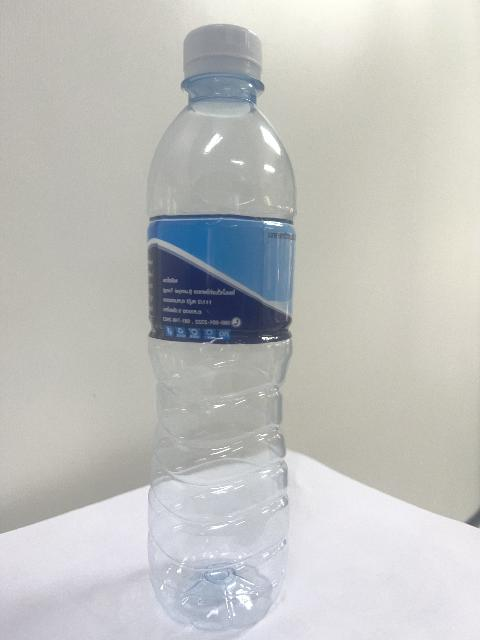bottle: (147, 25, 294, 630)
